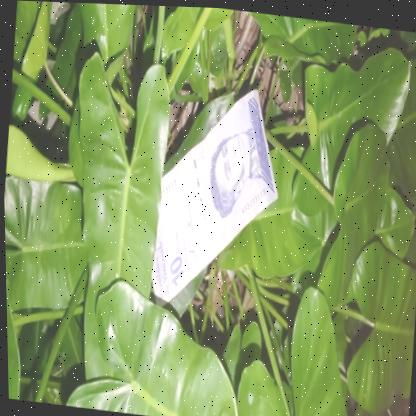ten-front-vef: (134, 74, 290, 322)
